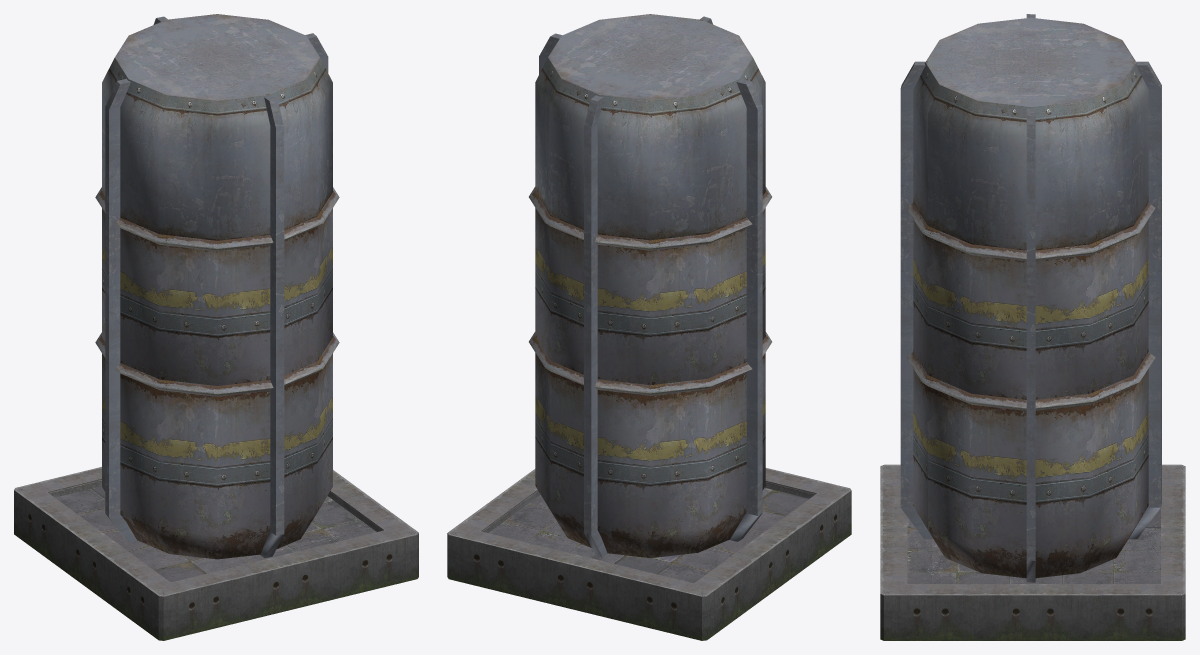
The model's file is Building_FdcDgz01.glb.
3 views of the same model, side by side, from view 1: azimuth 30°, elevation 25°; view 2: azimuth 150°, elevation 25°; view 3: azimuth 270°, elevation 25° (orthographic). The views are drawn at different scales.
Parts seen in each view (by area): view 1: xiutz_fdc_dgz_01_0; view 2: xiutz_fdc_dgz_01_0; view 3: xiutz_fdc_dgz_01_0.
Boxes of the visible parts, bbox=[...] form: xiutz_fdc_dgz_01_0: bbox=[14, 14, 418, 640]; xiutz_fdc_dgz_01_0: bbox=[447, 14, 851, 640]; xiutz_fdc_dgz_01_0: bbox=[880, 14, 1185, 640].
Bounding box in the file's own units: 16.58 × 30.39 × 16.4.
Materials: 3 (3 with a texture image).
